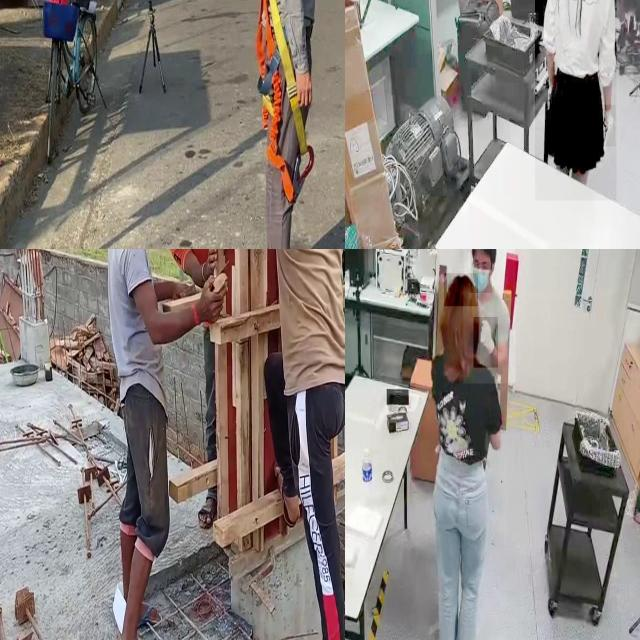Harness: (257, 0, 309, 204)
face_mask: (470, 250, 492, 293)
hand_glove: (474, 317, 498, 367), (601, 105, 616, 147)
hand_noglove: (192, 274, 228, 324)
head_nohelmet: (444, 273, 478, 307)
person: (415, 249, 507, 640), (535, 0, 617, 201), (463, 249, 516, 383)
